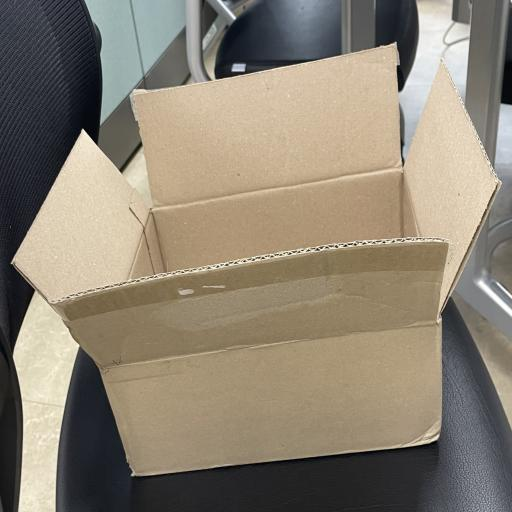box: (9, 40, 503, 477)
opened: (10, 40, 503, 367)
